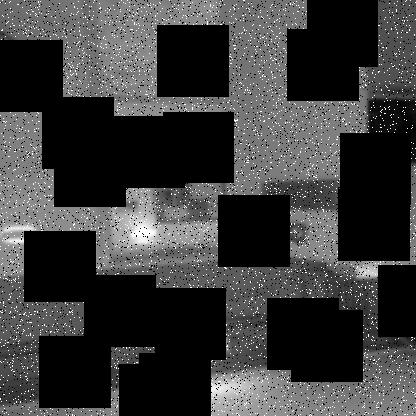Porte: (80, 1, 371, 273)
